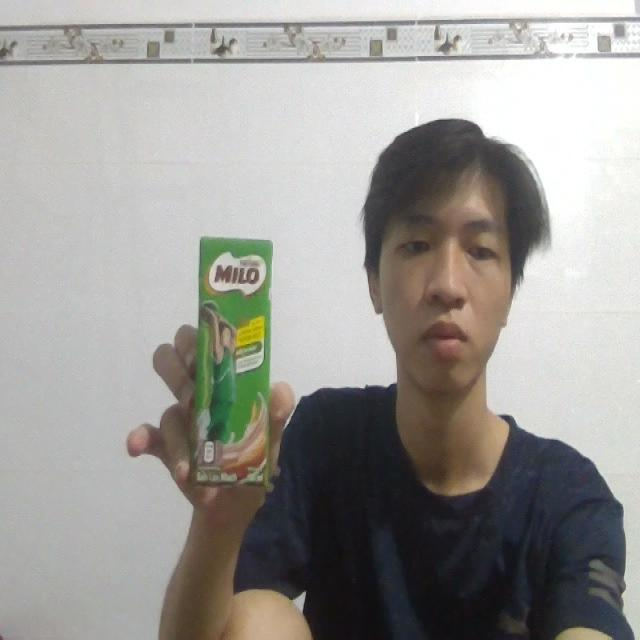sua milo: (181, 228, 282, 501)
